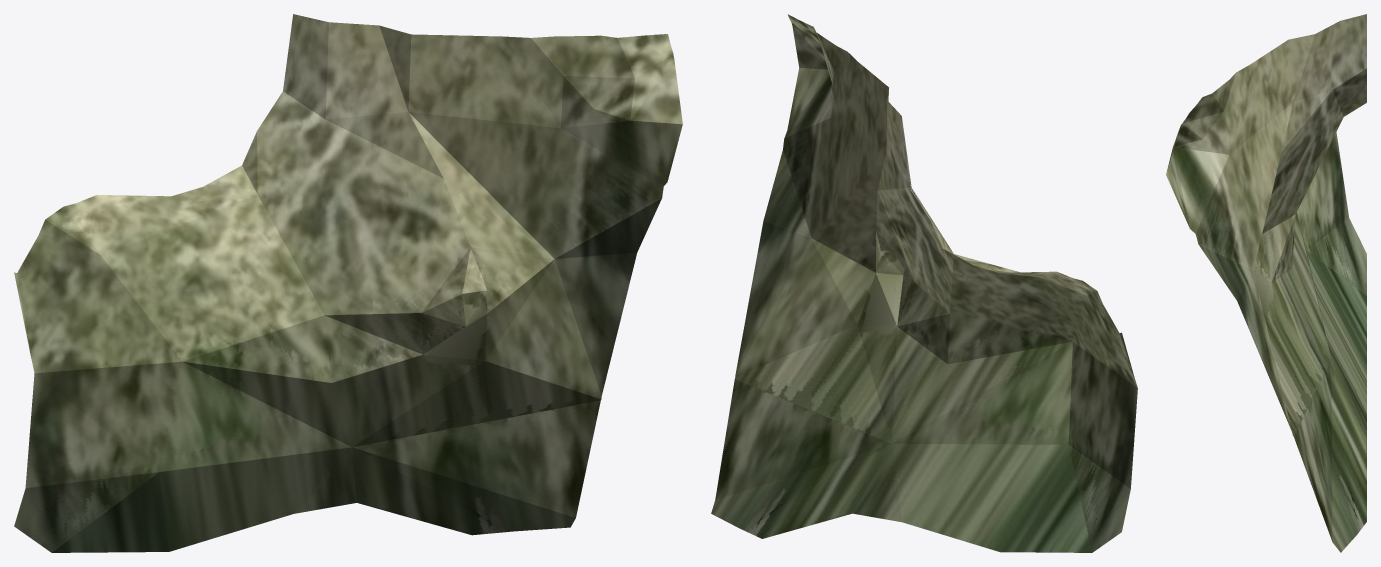
3 views of the same model, side by side, from view 1: azimuth 30°, elevation 25°; view 2: azimuth 150°, elevation 25°; view 3: azimuth 270°, elevation 25° (orthographic). The views are drawn at different scales.
Size of the model in its own units: 2.95 by 2.95 by 1.22.
2 materials, 2 textured.
